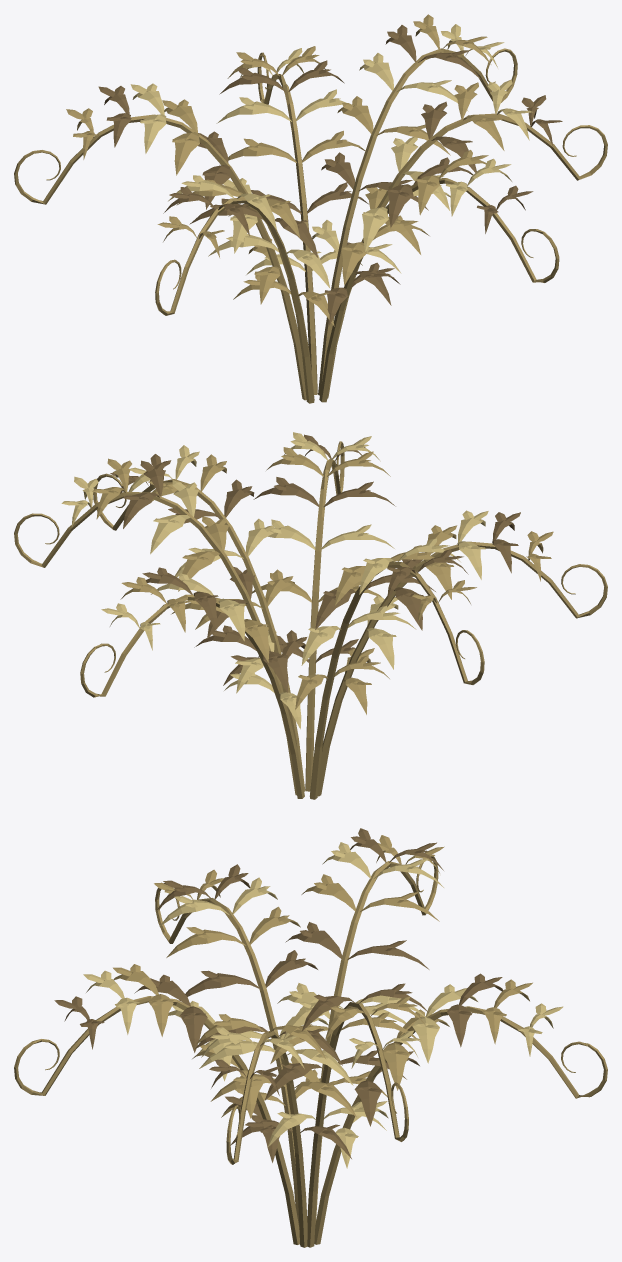
Rendered from DESERT_FERN.hi.glb.
The picture shows the model from 3 angles, top to bottom: view 1: azimuth 30°, elevation 25°; view 2: azimuth 150°, elevation 25°; view 3: azimuth 270°, elevation 25°; orthographic projection. The views are drawn at different scales.
Visible parts, largest first — view 1: DESERT_FERN; view 2: DESERT_FERN; view 3: DESERT_FERN.
Boxes of the visible parts, left/top/right/bottom form: DESERT_FERN: left=14, top=14, right=607, bottom=403; DESERT_FERN: left=14, top=432, right=607, bottom=799; DESERT_FERN: left=14, top=828, right=607, bottom=1247.
Bounding box in the file's own units: 0.6066 × 0.358 × 0.6007.
1 material, 1 textured.
